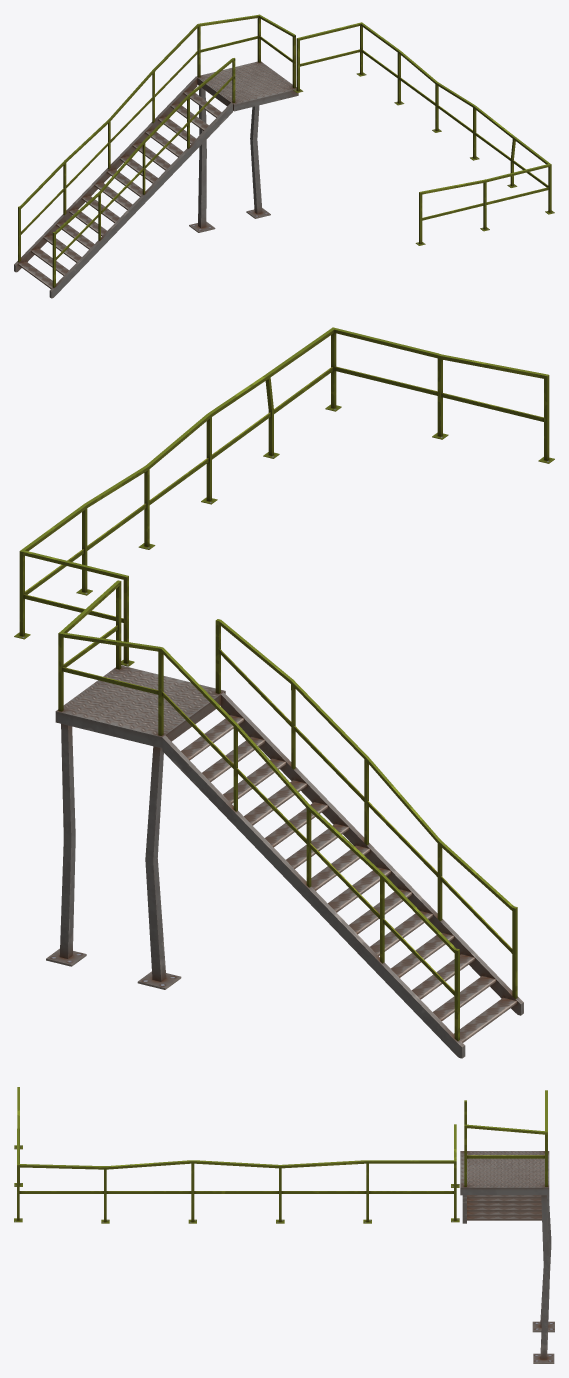
File: ContainerStairs01.FBX
3 renders of one model, top to bottom at view 1: azimuth 30°, elevation 25°; view 2: azimuth 150°, elevation 25°; view 3: azimuth 270°, elevation 25°, orthographic. The views are drawn at different scales.
Visible parts, largest first — view 1: ContainerStairs01; view 2: ContainerStairs01; view 3: ContainerStairs01.
Part boxes in pixels (x1,y1,x2,y2): ContainerStairs01: (14,14,554,298); ContainerStairs01: (14,327,554,1058); ContainerStairs01: (14,1087,554,1363).
Size of what is drawn, in the model's own units: 6.43 by 4.02 by 8.38.
